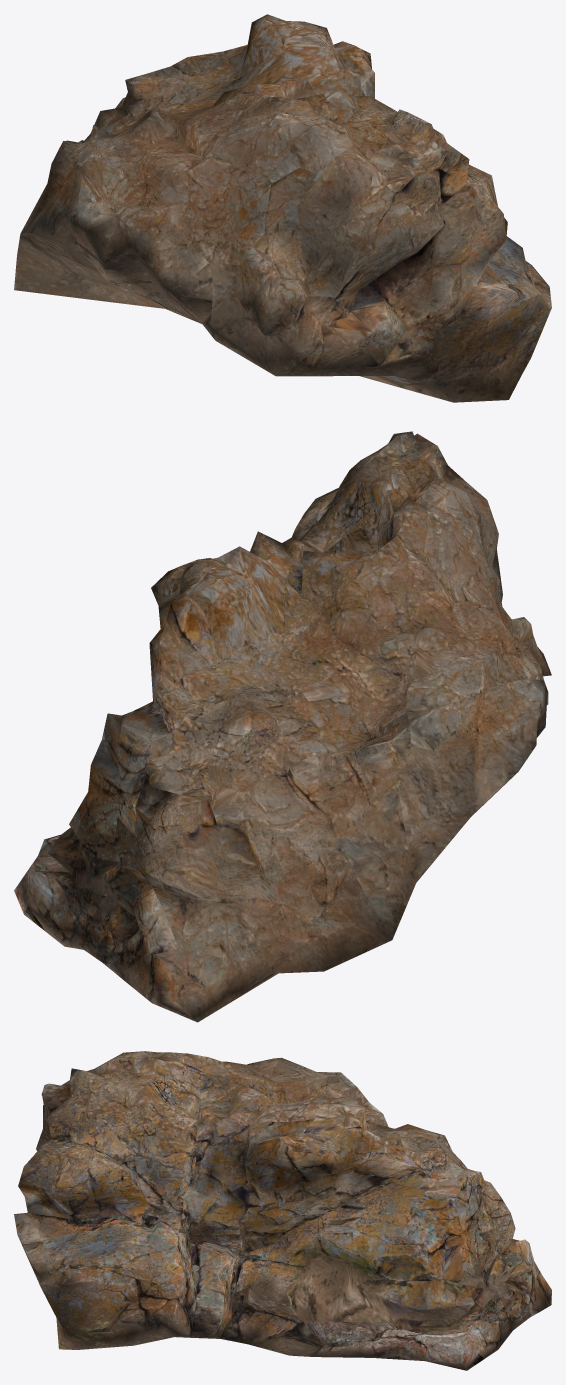
Rendered from rock_c.glb.
The picture shows the model from 3 angles, top to bottom: view 1: azimuth 30°, elevation 25°; view 2: azimuth 150°, elevation 25°; view 3: azimuth 270°, elevation 25°; orthographic projection. The views are drawn at different scales.
Parts seen in each view (by area): view 1: rock_c; view 2: rock_c; view 3: rock_c.
Boxes of the visible parts, x1=… form: rock_c: x1=14, y1=14, x2=551, y2=402; rock_c: x1=14, y1=431, x2=551, y2=1022; rock_c: x1=14, y1=1051, x2=551, y2=1370.
Bounding box in the file's own units: 0.7032 × 0.5537 × 1.
1 material, 1 textured.
